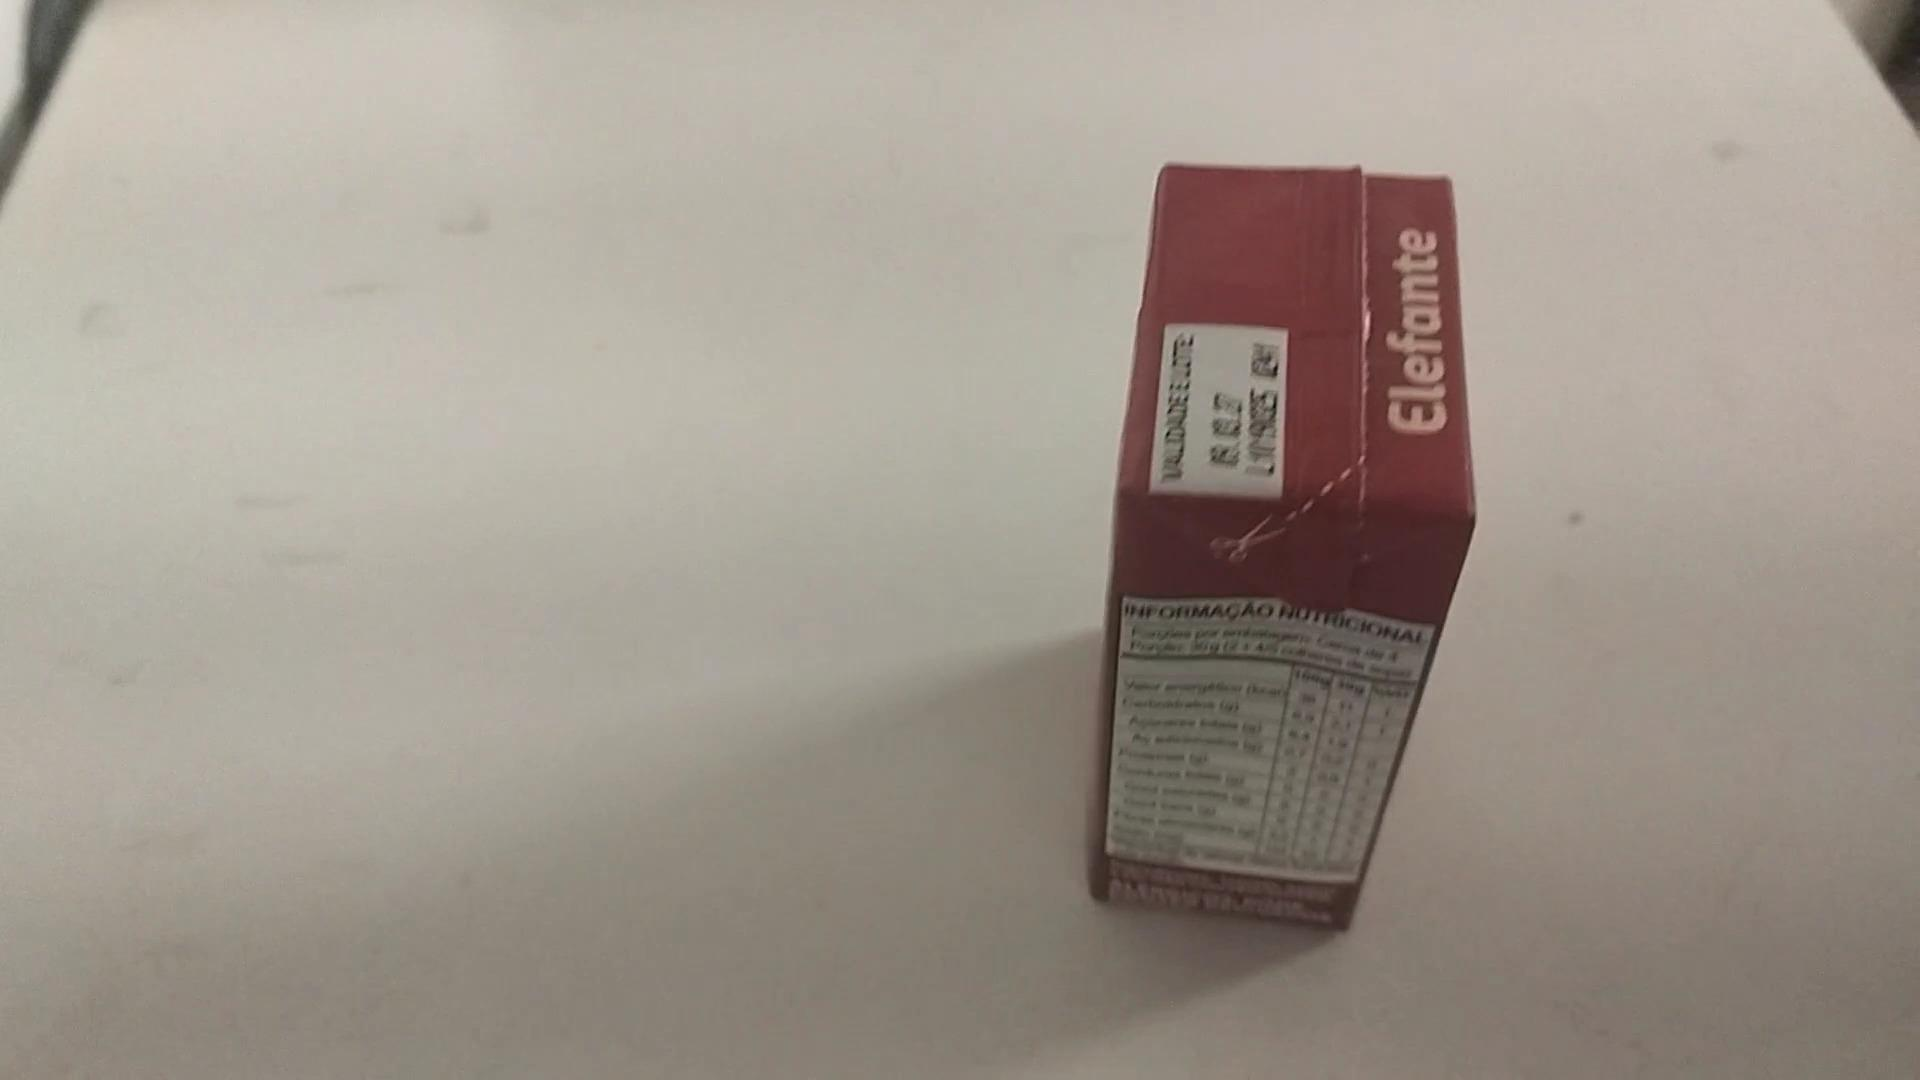tomate: (1064, 128, 1485, 916)
